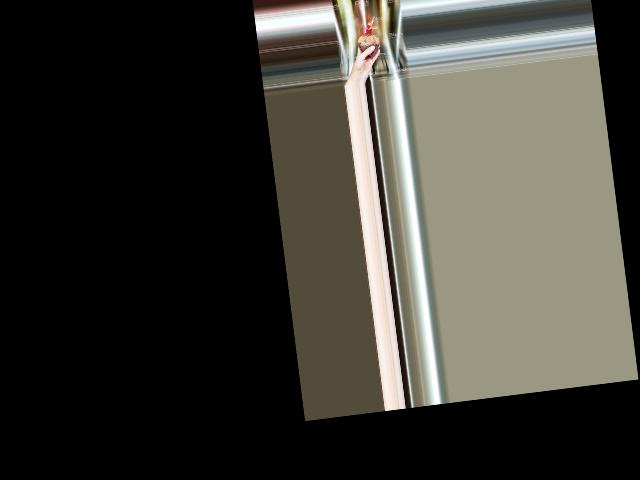beet: (355, 16, 381, 59)
